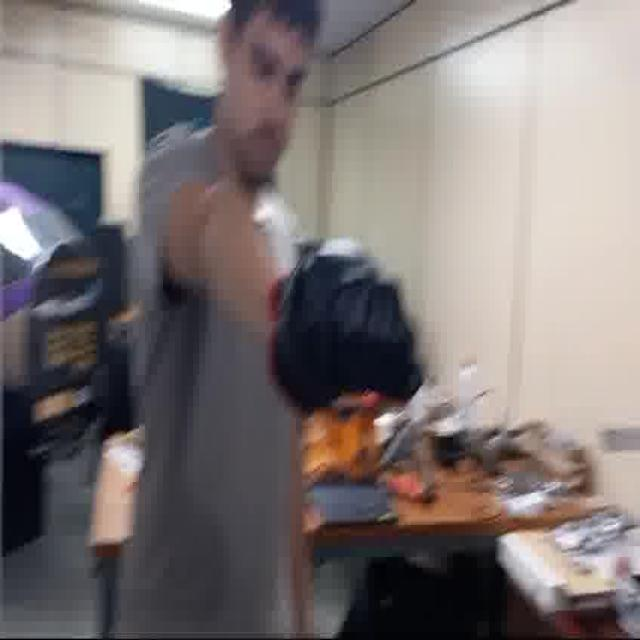Gloves: (270, 233, 424, 432)
